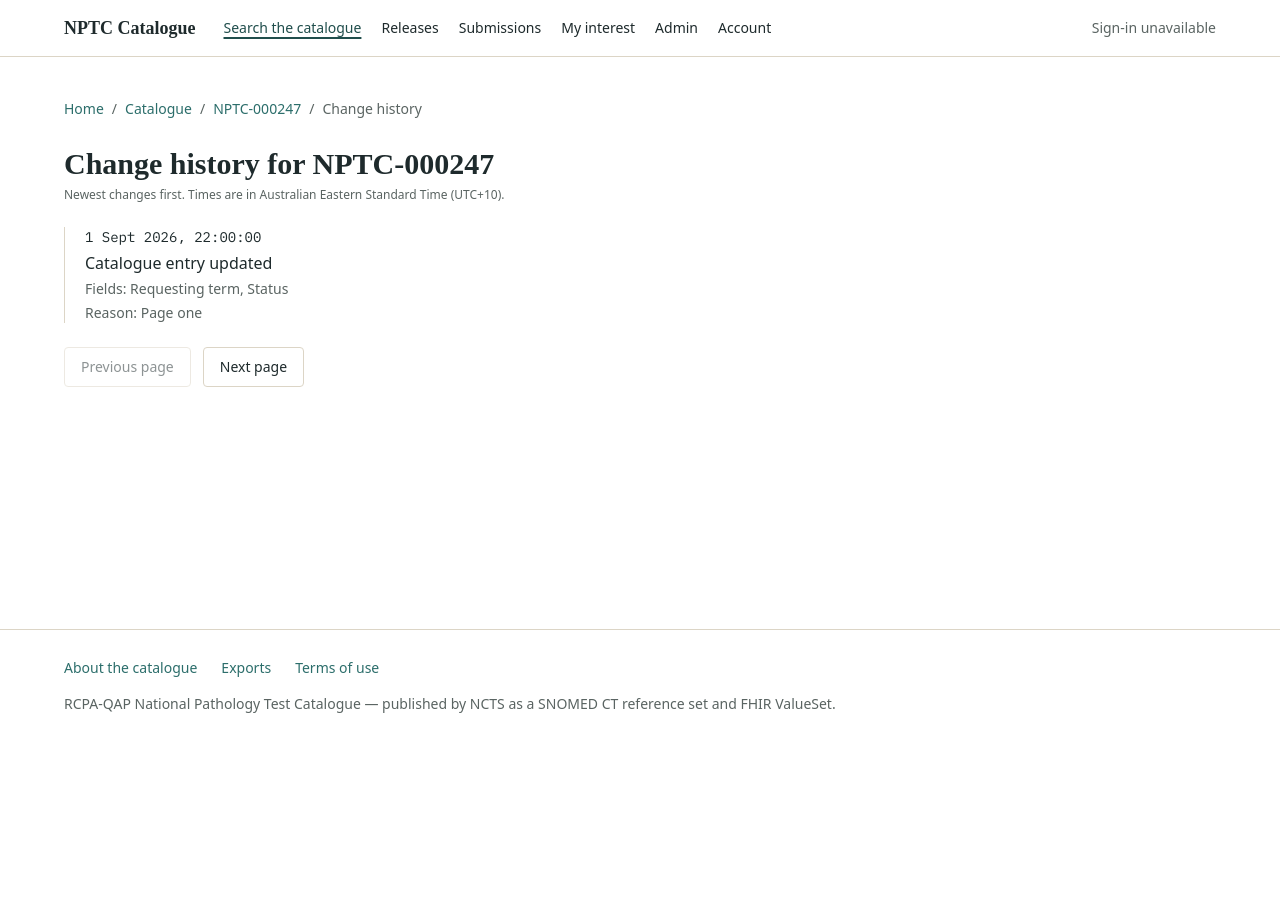
Test case: paging › passes the next cursor back as before, unchanged, and keeps it in the URL
Expected: the text "Reason: Page one" is shown, top-left (85, 302), bottom-right (202, 322)
Click the button "Next page" at (253, 366), box top-left (203, 346), bottom-right (304, 386)
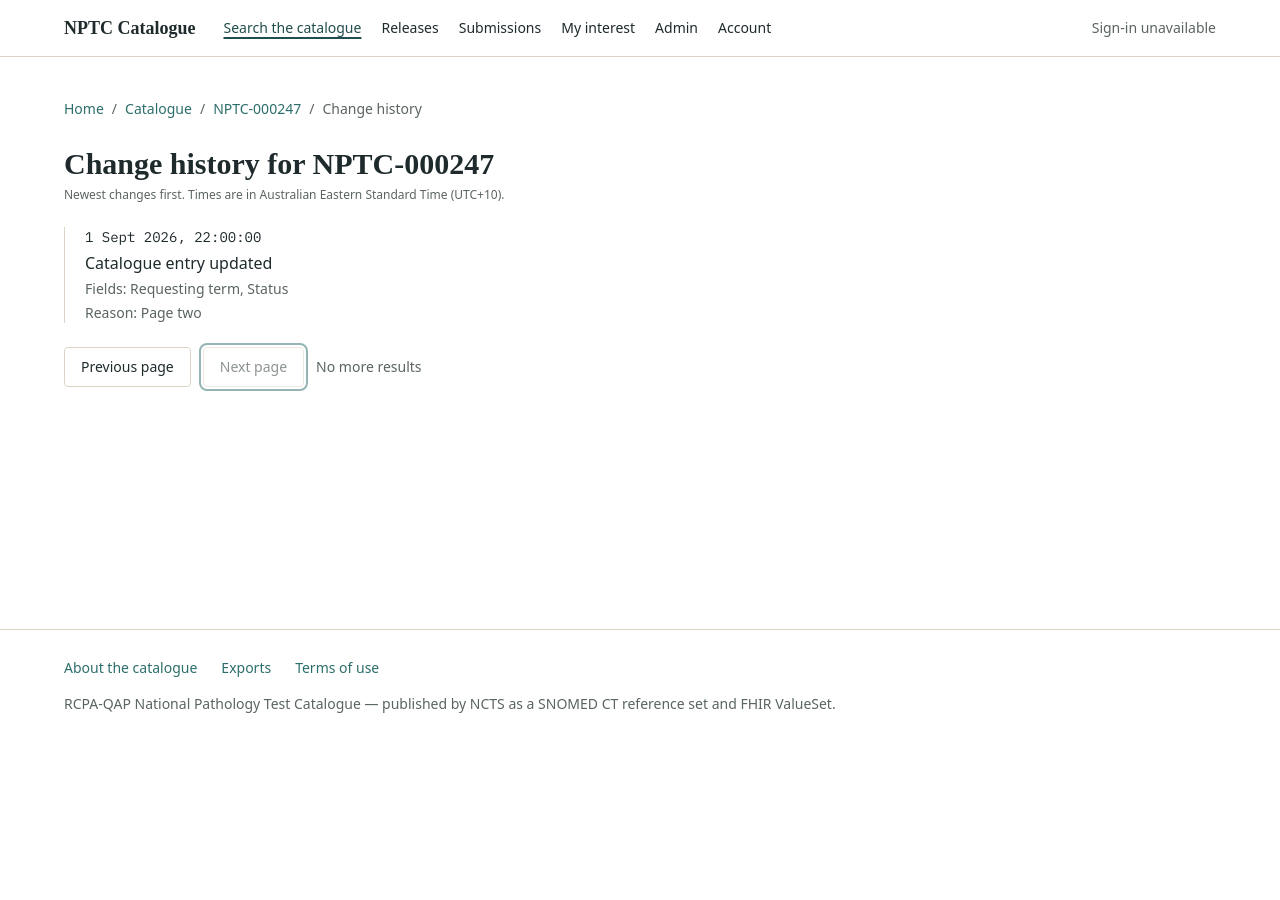
Expected: the text "Reason: Page two" is shown, top-left (85, 302), bottom-right (202, 322)
